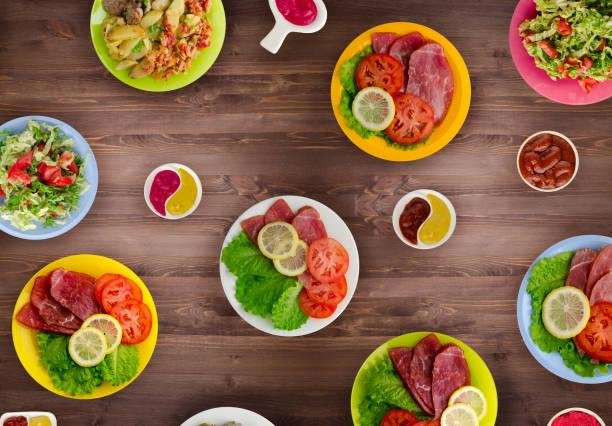Braised Crucian Carp: (14, 252, 158, 398), (330, 22, 470, 162), (218, 196, 357, 336), (515, 234, 612, 385), (350, 331, 497, 425), (89, 0, 222, 93), (2, 115, 99, 238), (508, 0, 608, 107)
